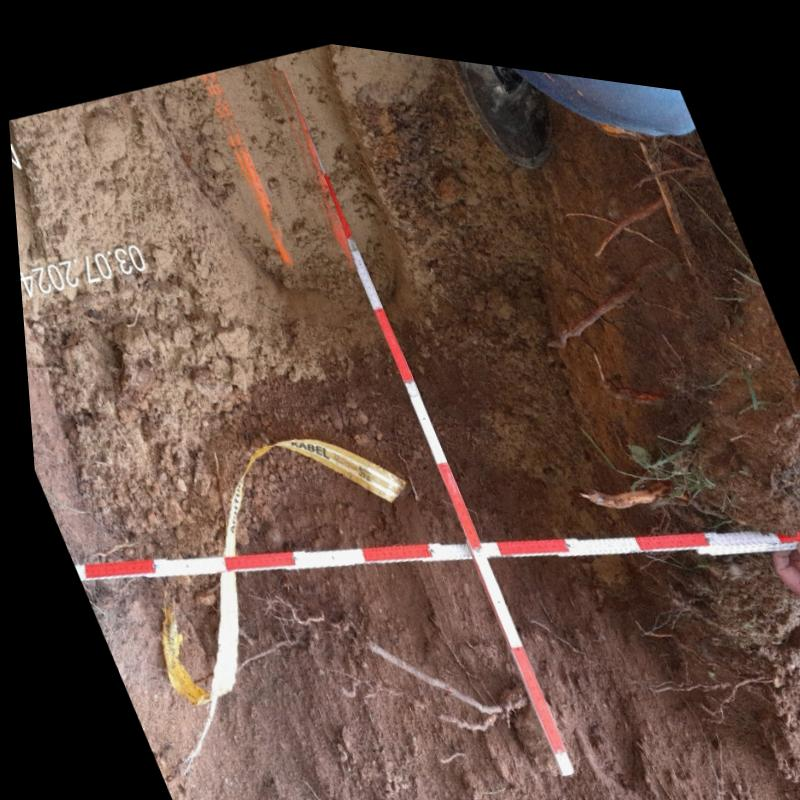Orang-Speednetrohrchen: (205, 65, 291, 259), (279, 62, 352, 259)
